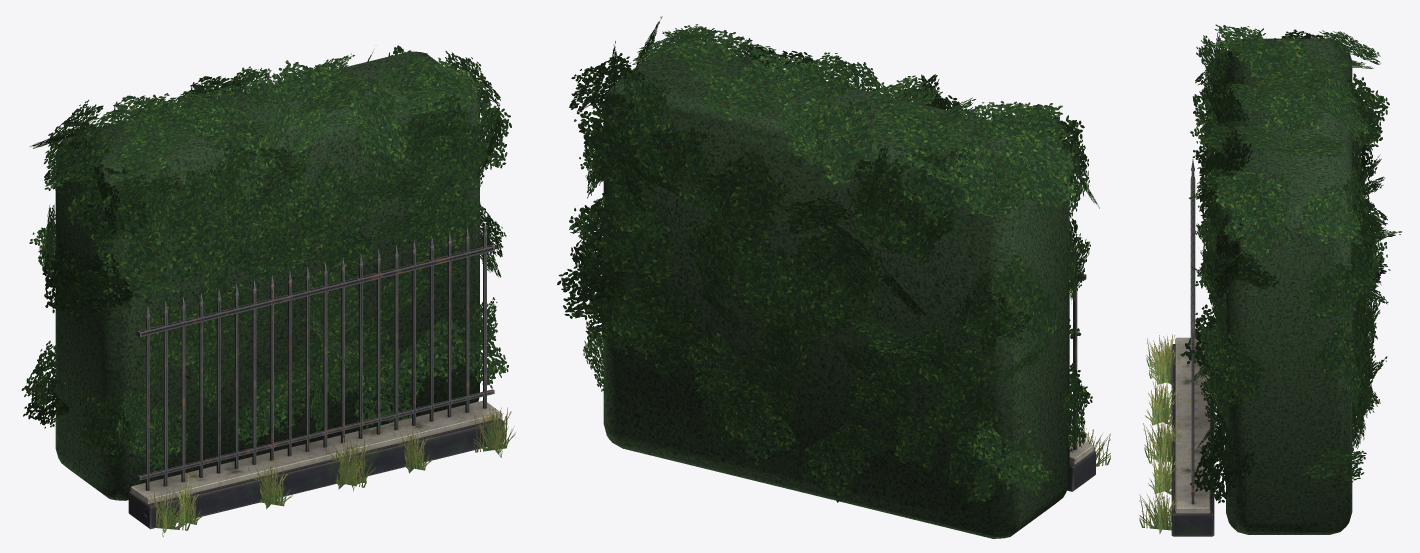
File: HedgeRailing.fbx
3 renders of one model, left to right at view 1: azimuth 30°, elevation 25°; view 2: azimuth 150°, elevation 25°; view 3: azimuth 270°, elevation 25°, orthographic. The views are drawn at different scales.
Visible parts, largest first — view 1: HedgeRailing_Leaves, HedgeRailing_Main; view 2: HedgeRailing_Leaves, HedgeRailing_Main; view 3: HedgeRailing_Leaves, HedgeRailing_Main.
Boxes of the visible parts, x1=… form: HedgeRailing_Leaves: x1=21, y1=45, x2=515, y2=536; HedgeRailing_Main: x1=55, y1=51, x2=503, y2=529; HedgeRailing_Leaves: x1=557, y1=16, x2=1110, y2=505; HedgeRailing_Main: x1=603, y1=46, x2=1095, y2=538; HedgeRailing_Leaves: x1=1139, y1=24, x2=1401, y2=534; HedgeRailing_Main: x1=1171, y1=38, x2=1352, y2=536.
Bounding box in the file's own units: 1043 × 831 × 527.
